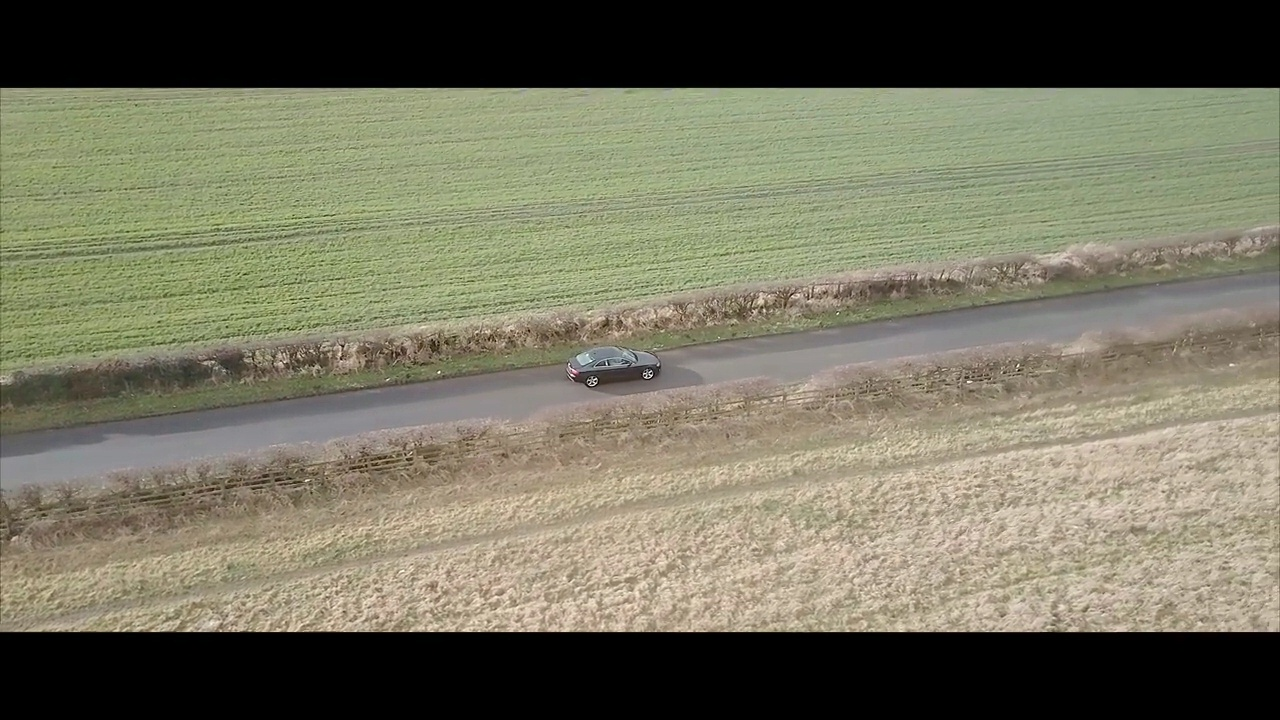araba: (563, 342, 663, 390)
